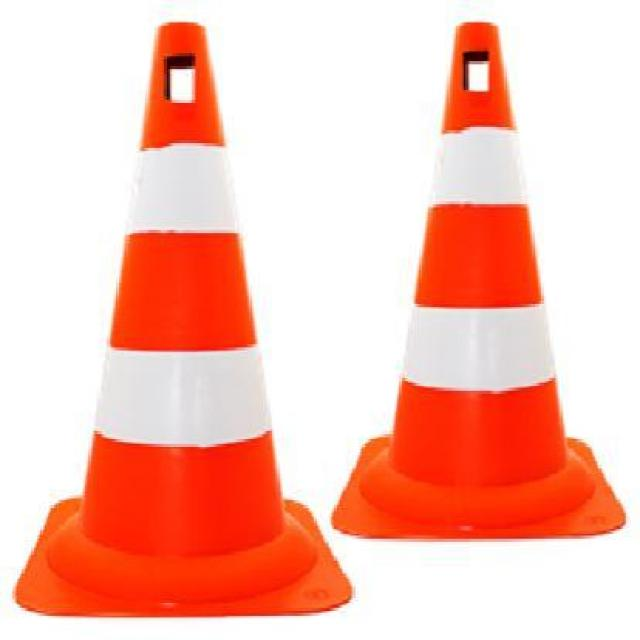cone: (0, 0, 359, 626), (344, 11, 628, 534)
